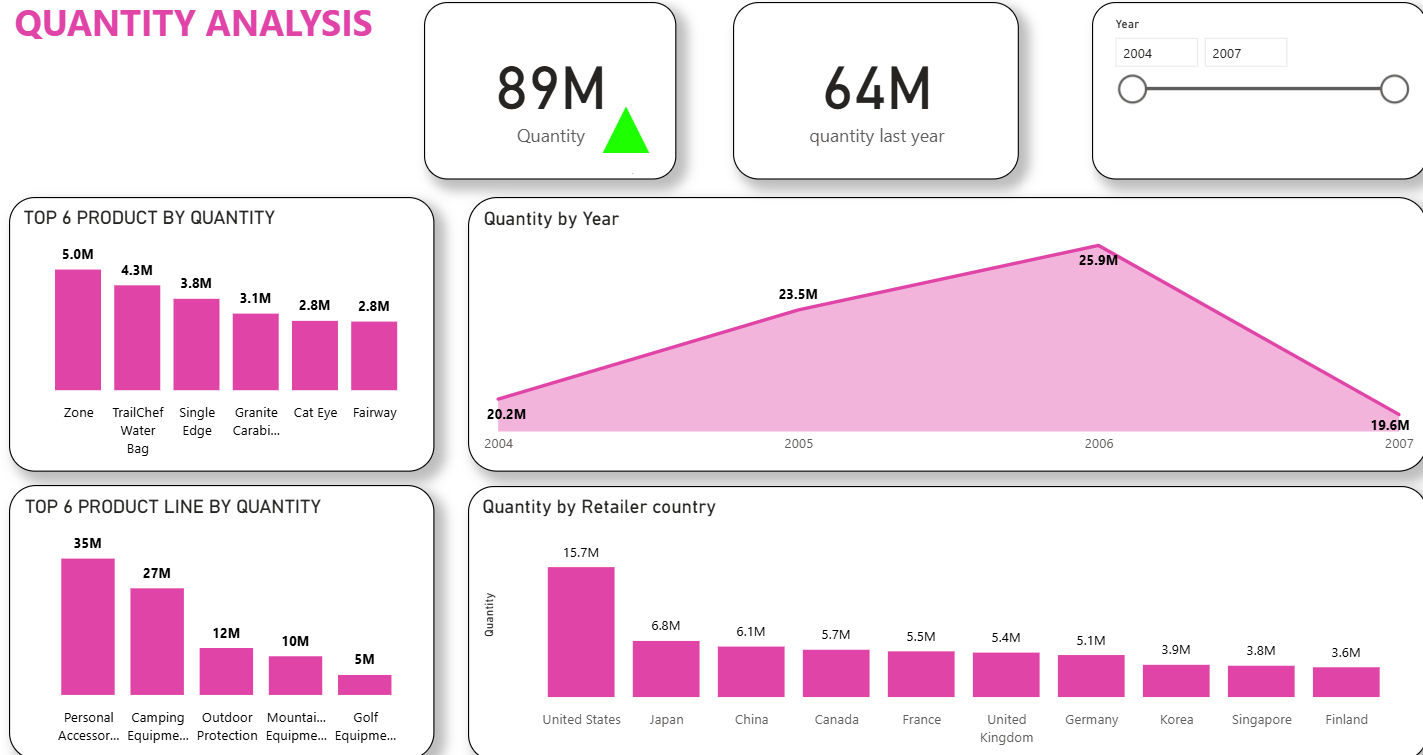

What the dashboard file says about the page in this screenshot:
{"tool":"powerbi","page":{"name":"QUANTITY","canvas":[1280,720],"ordinal":3},"visuals":[{"type":"textbox","box":[9.6,0,381.1,55.5],"z":0},{"type":"columnChart","title":"TOP 6 PRODUCT BY QUANTITY","fields":{"Y":["Sum(Retail-SalesMarketing Profi.Quantity)"],"Category":["Retail-SalesMarketing Profi.Product"]},"box":[9.6,184.5,381.1,246],"z":1000},{"type":"card","fields":{"Values":["Sum(Retail-SalesMarketing Profi.Quantity)"]},"box":[381.1,9.6,225.5,159.2],"z":2000},{"type":"areaChart","fields":{"Y":["Sum(Retail-SalesMarketing Profi.Quantity)"],"Category":["Retail-SalesMarketing Profi.Year"]},"box":[420.9,184.5,858.7,246],"z":3000},{"type":"slicer","fields":{"Values":["Retail-SalesMarketing Profi.Year"]},"box":[979.3,9.6,300.3,159.2],"z":4000},{"type":"card","fields":{"Values":["all measures.quantity last year"]},"box":[658.5,9.6,255.7,159.2],"z":5000},{"type":"columnChart","title":"TOP 6 PRODUCT LINE BY QUANTITY","fields":{"Y":["Sum(Retail-SalesMarketing Profi.Quantity)"],"Category":["Retail-SalesMarketing Profi.Product line"]},"box":[10,442.5,381,246],"z":6000},{"type":"card","fields":{"Values":["all measures.quantity arrow"]},"box":[517.4,91.7,89.2,77.2],"z":7000},{"type":"columnChart","fields":{"Category":["Retail-SalesMarketing Profi.Retailer country"],"Y":["Sum(Retail-SalesMarketing Profi.Quantity)"]},"box":[421,443,859,246],"z":8000}]}

Visuals, with their boxes on the page's 1280x720 design canvas (x1, y1, x2, y2). These are canvas units, not pixel positions in the 1423x755 screenshot, which may show the page scaled, cropped or inside an application window:
textbox: x1=10 y1=0 x2=391 y2=56
"TOP 6 PRODUCT BY QUANTITY" columnChart: x1=10 y1=184 x2=391 y2=430
card - Sum(Retail-SalesMarketing Profi.Quantity): x1=381 y1=10 x2=607 y2=169
areaChart - Sum(Retail-SalesMarketing Profi.Quantity) x Retail-SalesMarketing Profi.Year: x1=421 y1=184 x2=1280 y2=430
slicer - Retail-SalesMarketing Profi.Year: x1=979 y1=10 x2=1280 y2=169
card - all measures.quantity last year: x1=658 y1=10 x2=914 y2=169
"TOP 6 PRODUCT LINE BY QUANTITY" columnChart: x1=10 y1=442 x2=391 y2=688
card - all measures.quantity arrow: x1=517 y1=92 x2=607 y2=169
columnChart - Retail-SalesMarketing Profi.Retailer country x Sum(Retail-SalesMarketing Profi.Quantity): x1=421 y1=443 x2=1280 y2=689
